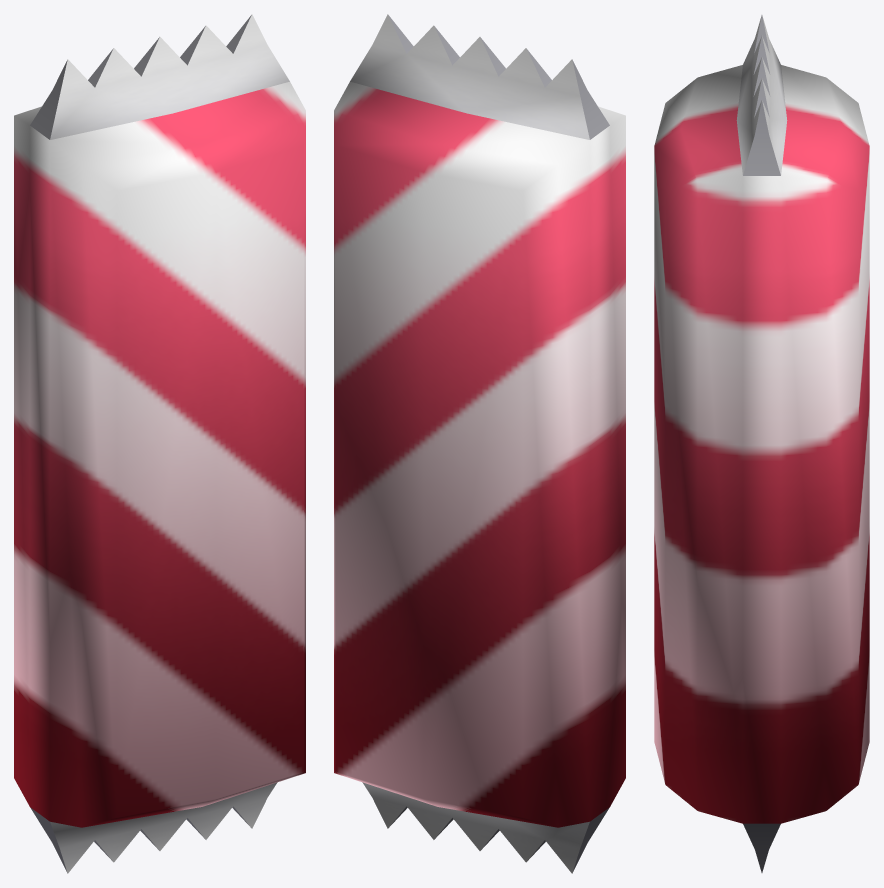
File: m_IceCreamWrapper02.fbx
3 views of the same model, side by side, from view 1: azimuth 30°, elevation 25°; view 2: azimuth 150°, elevation 25°; view 3: azimuth 270°, elevation 25° (orthographic). The views are drawn at different scales.
Visible parts, largest first — view 1: m_IceCreamWrapper02; view 2: m_IceCreamWrapper02; view 3: m_IceCreamWrapper02.
Boxes of the visible parts, x1=… form: m_IceCreamWrapper02: x1=14, y1=14, x2=305, y2=873; m_IceCreamWrapper02: x1=334, y1=14, x2=625, y2=873; m_IceCreamWrapper02: x1=654, y1=15, x2=869, y2=872.
Size of the model in its own units: 7.39 by 23.98 by 6.05.
